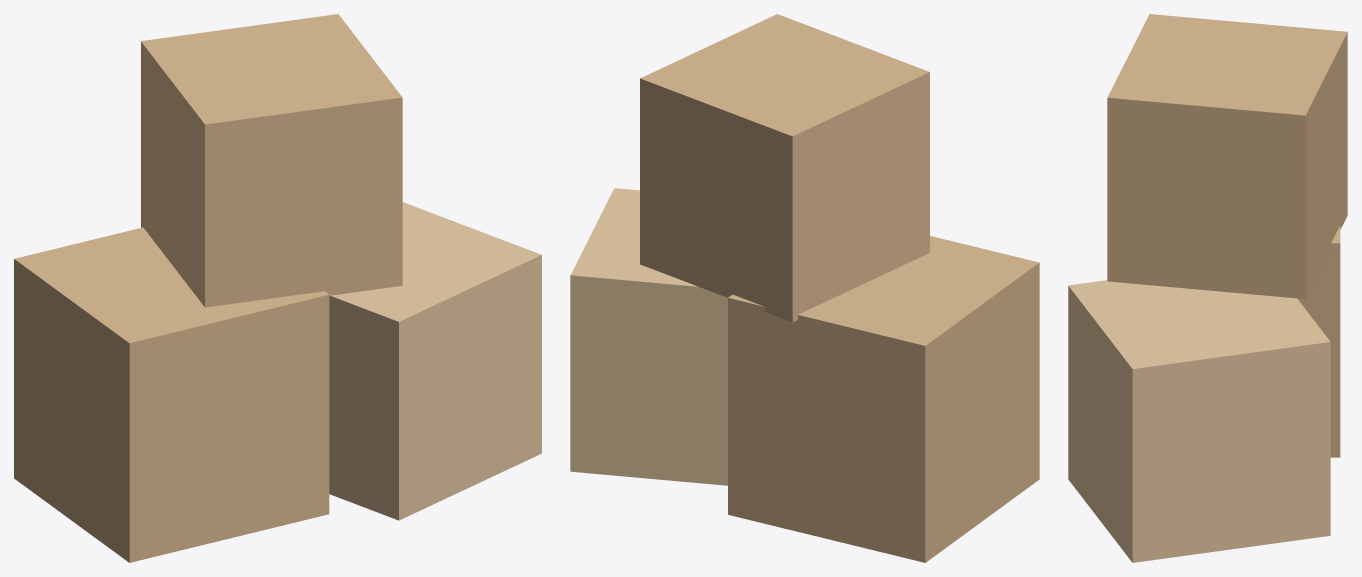
File: crate-stack.glb
3 views of the same model, side by side, from view 1: azimuth 30°, elevation 25°; view 2: azimuth 150°, elevation 25°; view 3: azimuth 270°, elevation 25° (orthographic). The views are drawn at different scales.
Visible parts, largest first — view 1: crate-low, crate-top, crate-low-2; view 2: crate-low, crate-top, crate-low-2; view 3: crate-low-2, crate-top, crate-low.
Boxes of the visible parts, x1,y1,x2,y2 form: crate-low: (14,227,329,562); crate-top: (141,14,402,307); crate-low-2: (329,202,541,520); crate-low: (728,236,1039,562); crate-top: (640,14,929,322); crate-low-2: (570,188,727,485); crate-low-2: (1068,280,1330,562); crate-top: (1107,14,1347,299); crate-low: (1297,225,1340,457).
Size of the model in its own units: 1.69 by 1.54 by 0.9932.
